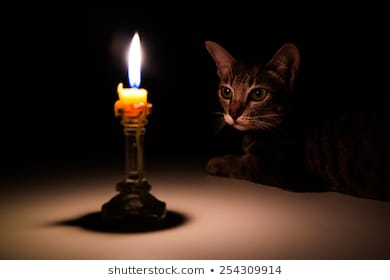Fire: (128, 30, 142, 88)
